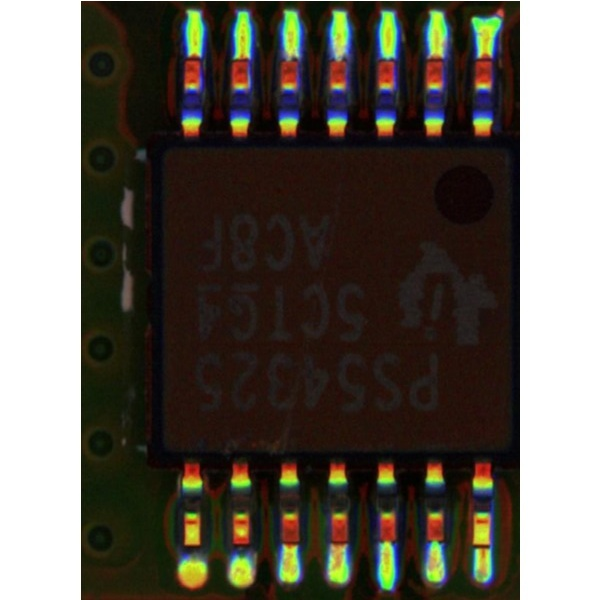Bad_podu: (479, 38, 490, 72), (236, 41, 250, 66), (475, 539, 491, 556), (334, 533, 343, 554)
